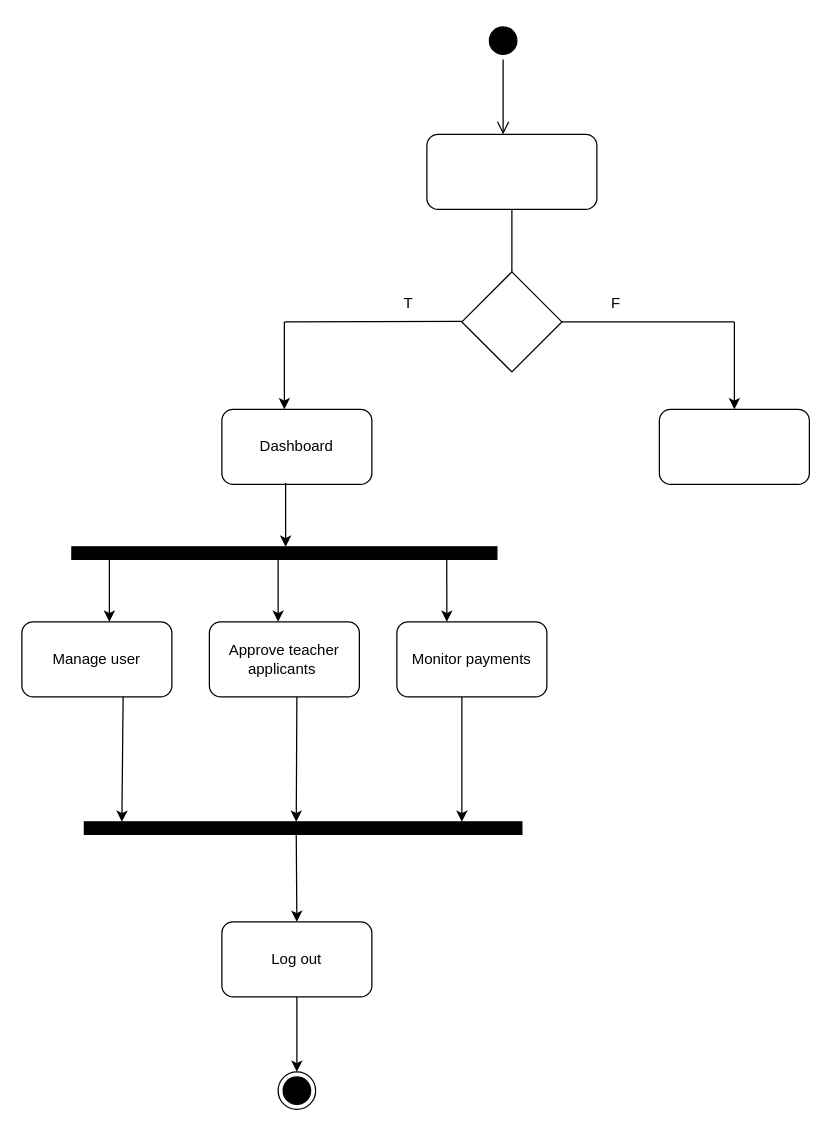
Image size: 831x1131. Some labels were removed from this diagram. Here are the shapes that lost their labels. From the top down, the box of each, then its label:
(426, 133, 597, 209): Login
(658, 408, 809, 484): Error message
